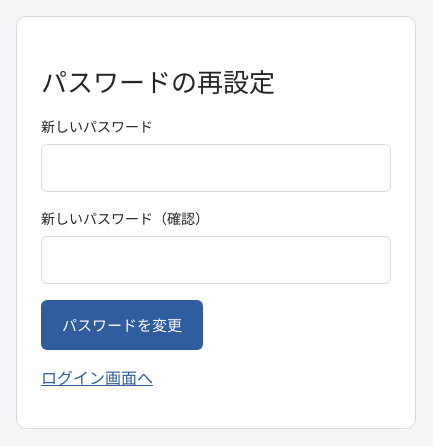
Test: ResetPasswordPage › 正常に送信すると成功メッセージを表示しログインリンクを表示する
This screenshot has width=433, height=446.
Expected: the button "パスワードを変更" is enabled, left=41, top=300, right=203, bottom=350
Type "Passw0rd123!" into the password field labelled "新しいパスワード". click: coordinates (216, 168)
box: left=41, top=144, right=391, bottom=192
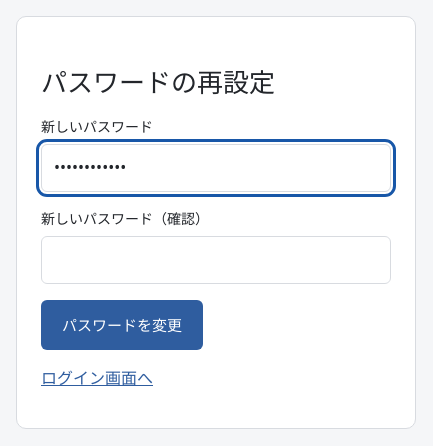
Type "Passw0rd123!" into the password field labelled "新しいパスワード（確認）". click: coordinates (216, 260)
box: left=41, top=236, right=391, bottom=284
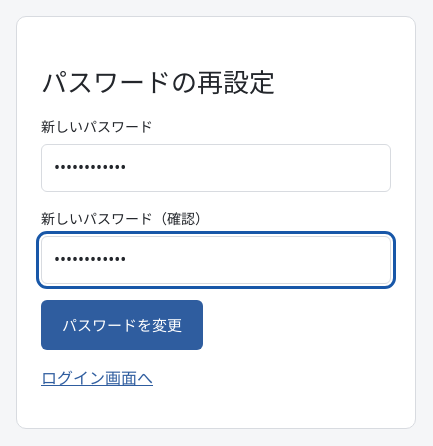
Click the button "パスワードを変更". click: coordinates (122, 325)
box: left=41, top=300, right=203, bottom=350
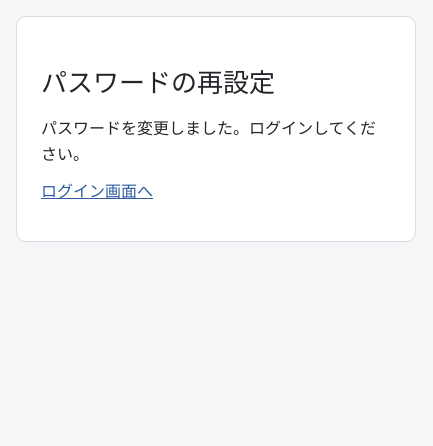
Expected: the link "ログイン画面へ" is shown, left=41, top=180, right=153, bottom=202
Now the text "パスワードを変更しました。ログインしてください。" is shown, box left=41, top=116, right=391, bottom=167
